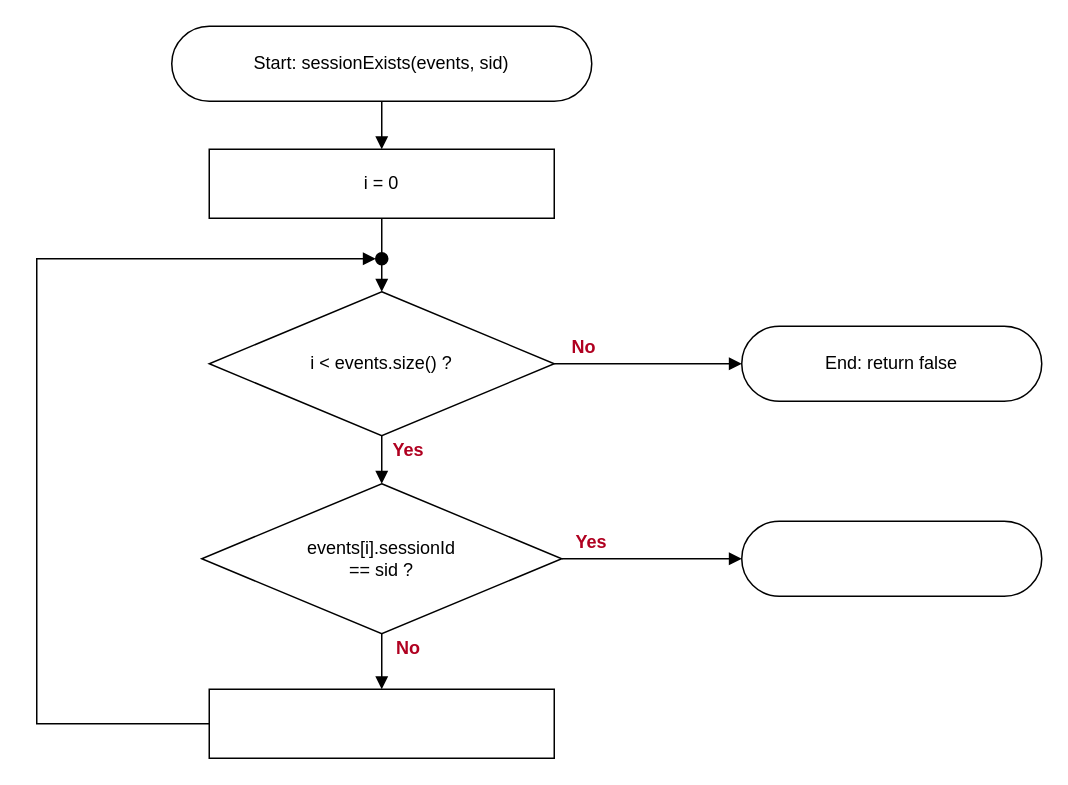
This 1068x785 diagram has some shape labels left out. Here are the shapes that lost their labels. From the top down, the centre of each, then its label:
pixel 891 558: End: return true
pixel 381 723: i = i + 1
